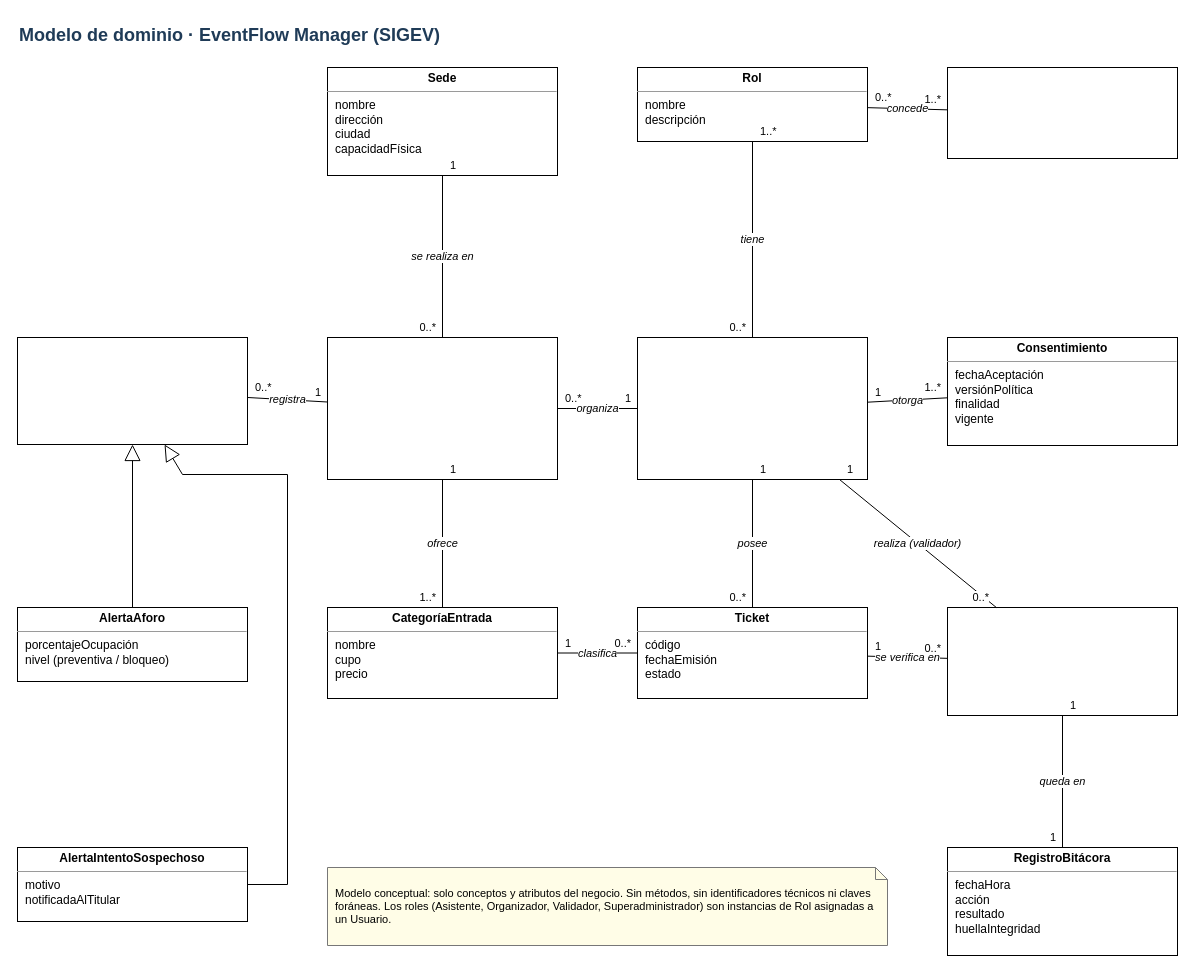
This 1195x973 diagram has some shape labels left out. Here are the shapes that lost their labels. From the top down, the box of each, then its label:
(946, 66, 1178, 158): Permiso nombre módulo acción
(16, 336, 248, 444): «abstracta» Alerta fechaHora mensaje atendida
(326, 336, 558, 480): Evento título descripción fechaInicio fechaFin aforoMáximo estado
(636, 336, 868, 480): Usuario nombreCompleto tipoDocumento númeroDocumento correo teléfono estado
(946, 606, 1178, 716): Validación fechaHora puerta resultado motivoRechazo
